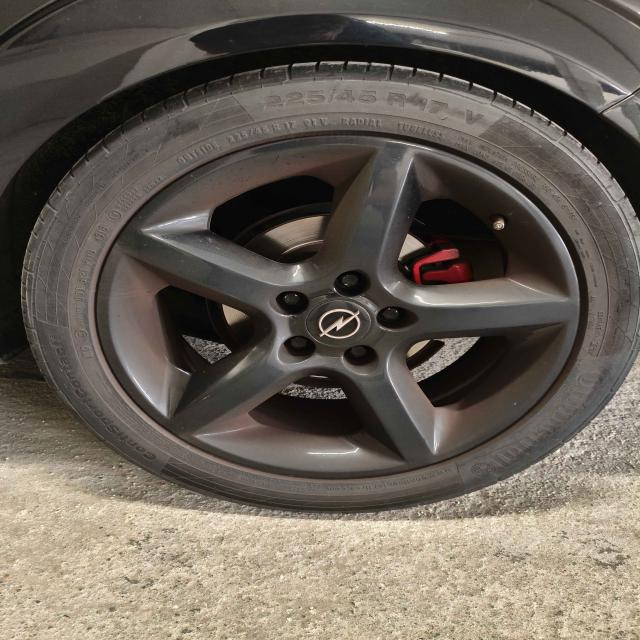jante: (95, 133, 580, 479)
parafuso: (378, 300, 407, 326), (339, 266, 364, 294), (280, 288, 308, 312), (286, 332, 312, 353), (345, 341, 372, 361)
roda: (21, 60, 640, 512)
